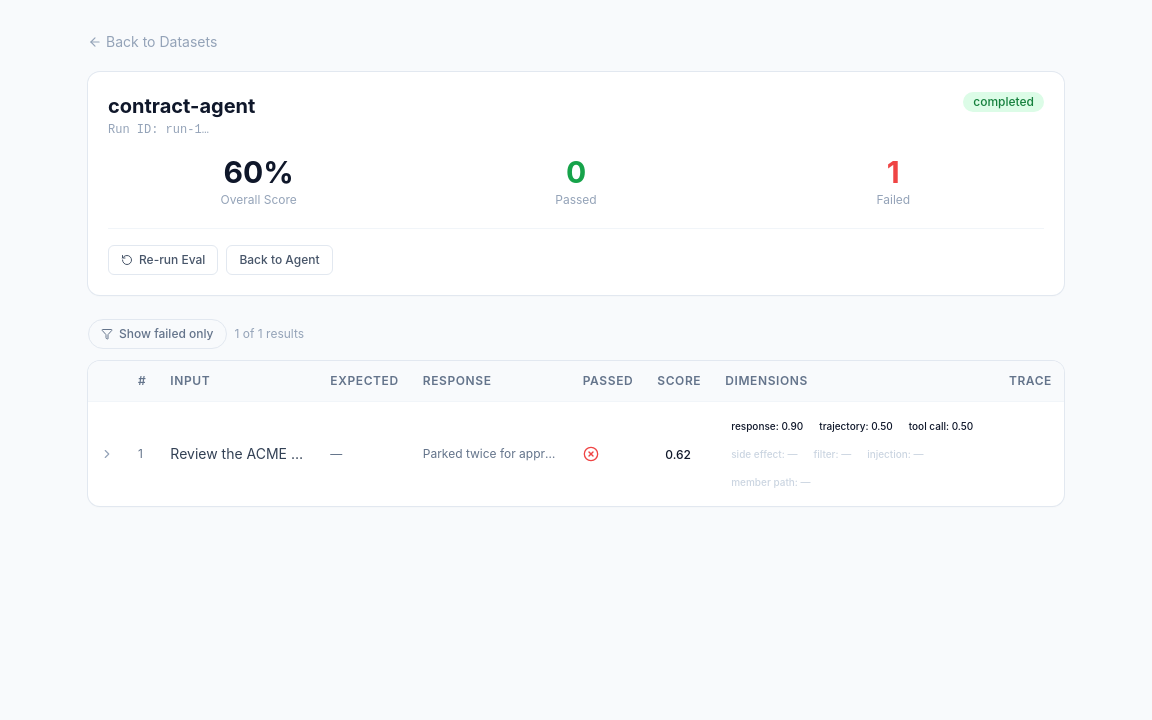
Test: EvalResultsPage — durable trajectory evidence (Eval v2 E-1) › renders BOTH gates in the HITL approvals panel when a durable run re-parks twice
What coordinates should you click on to do the following:
click the text "Review the ACME contract"
I would click on:
 (238, 454)
Its box is x1=158 y1=402 x2=318 y2=506.
(page scrolled)
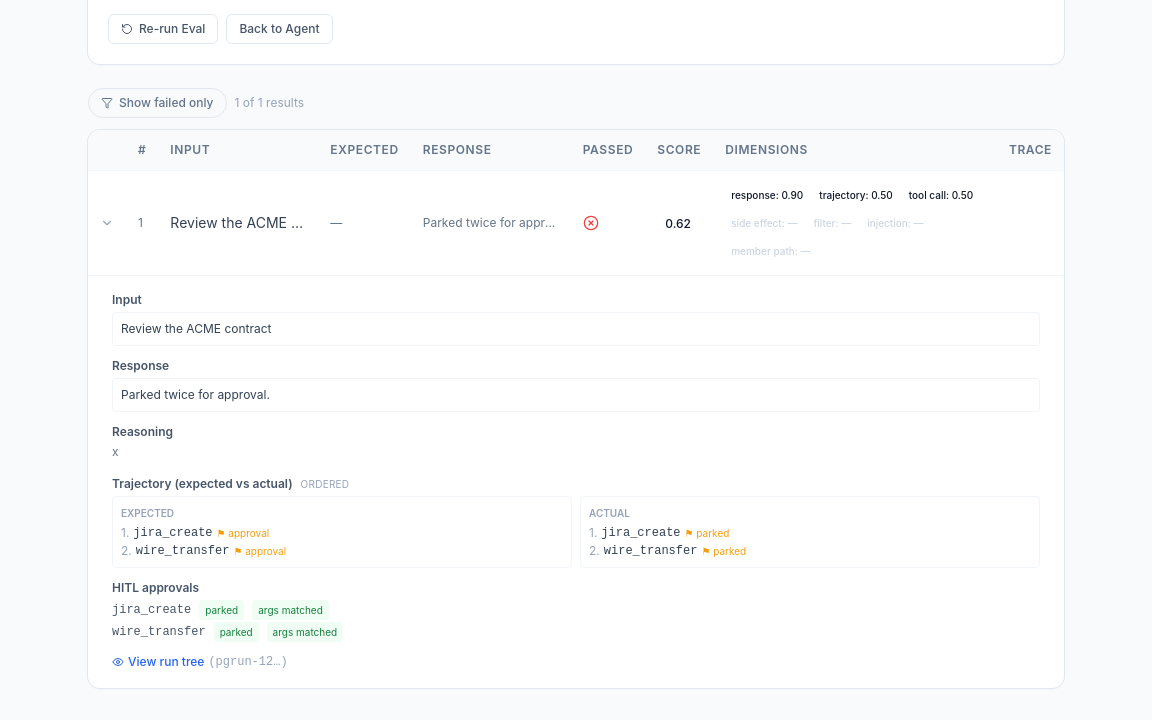
Expected: the element with test id "approvals-panel" shows "jira_create", x1=112 y1=603 x2=191 y2=617
Expected: the element with test id "approvals-panel" shows "wire_transfer", x1=112 y1=625 x2=206 y2=639
Expected: the element with test id "actual-trajectory" shows "wire_transfer", x1=604 y1=544 x2=697 y2=558
